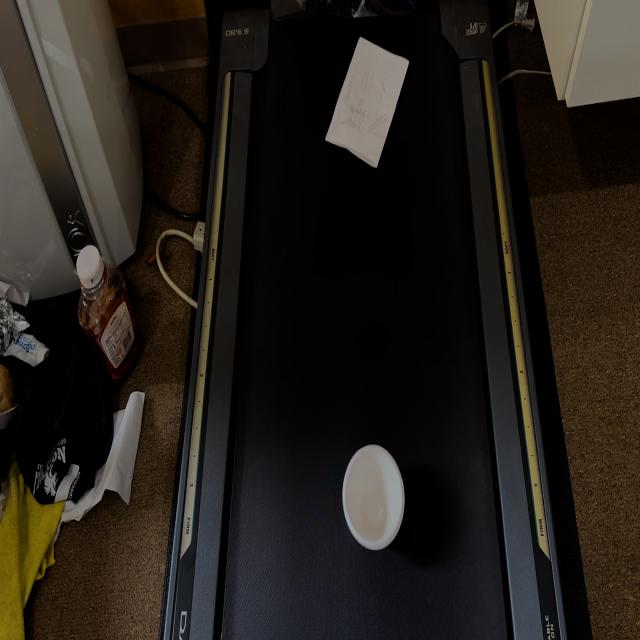Recycle: (325, 36, 409, 170), (343, 444, 405, 550)
